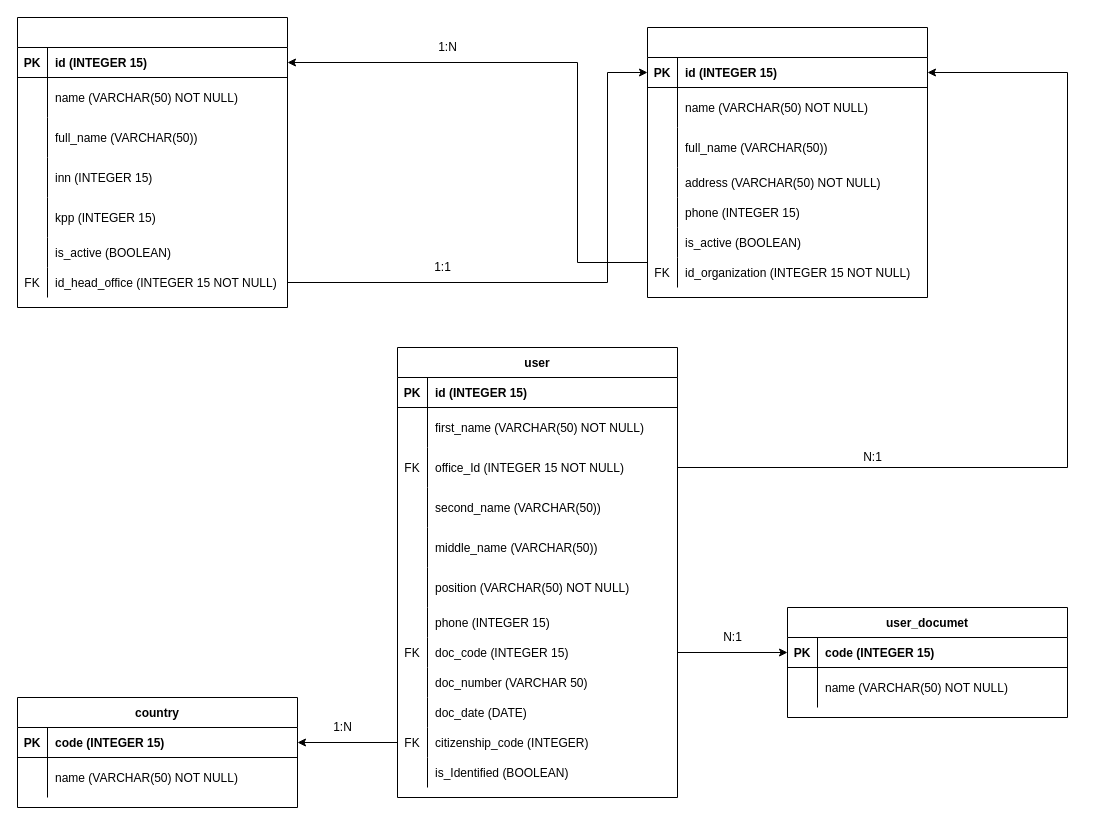
This 1093x825 diagram has some shape labels left out. Each missing label, with the box of its shape:
office: (646, 26, 928, 298)
organization: (16, 16, 288, 308)
